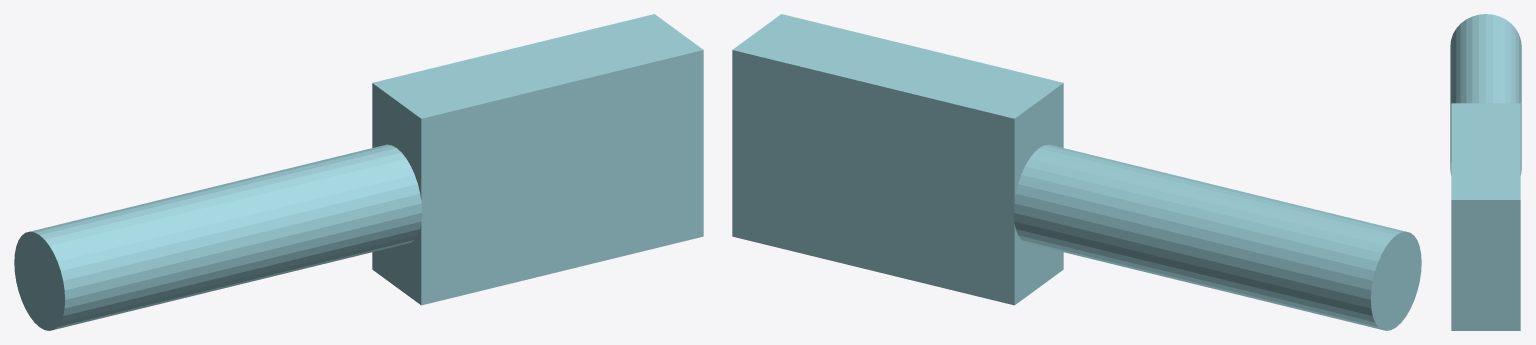
The model's file is cylinder_brush_v11007.obj.
The picture shows the model from 3 angles, left to right: view 1: azimuth 30°, elevation 25°; view 2: azimuth 150°, elevation 25°; view 3: azimuth 270°, elevation 25°; orthographic projection. The views are drawn at different scales.
Bounding box in the file's own units: 0.2594 × 0.0723 × 0.0357.
Materials: 1 (1 with a texture image).
